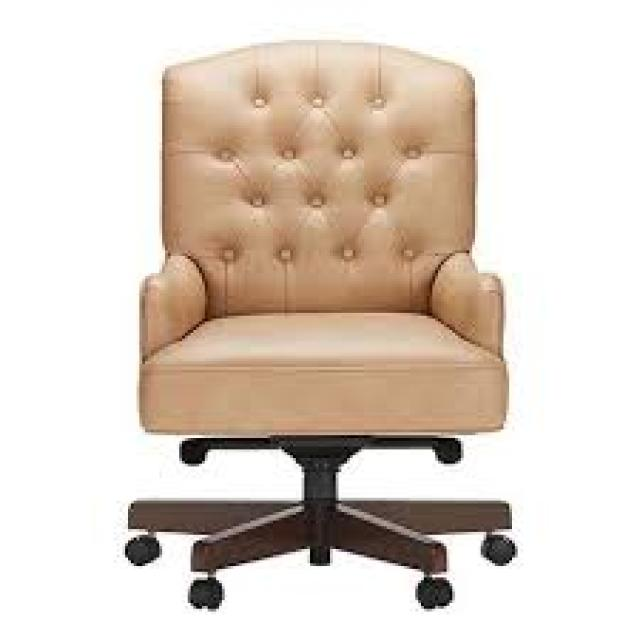chair: (52, 8, 562, 640)
